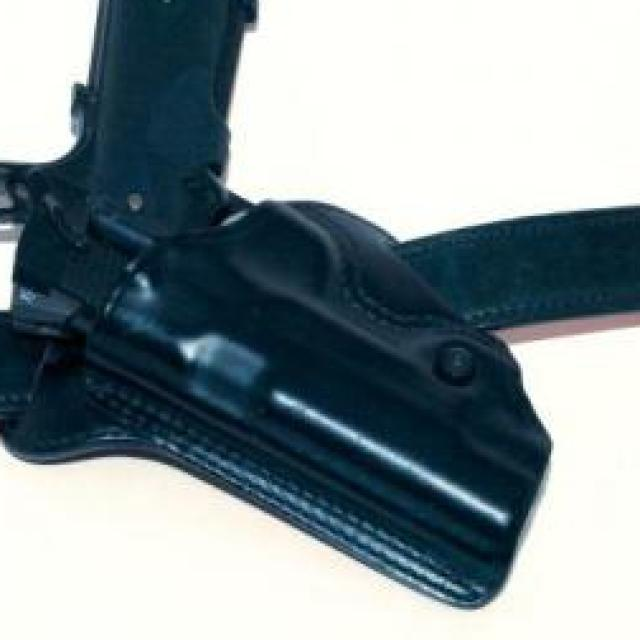pistol: (0, 0, 582, 592)
